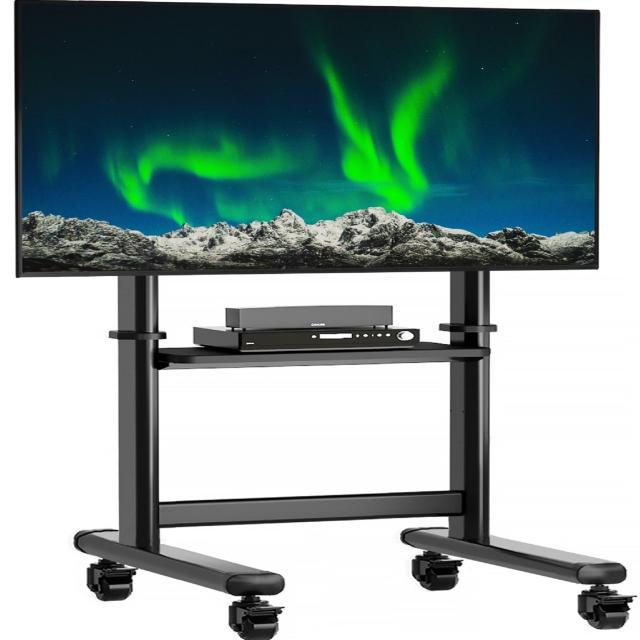electronics: (15, 0, 633, 638), (15, 0, 598, 276), (193, 305, 418, 351), (193, 326, 419, 351), (226, 305, 392, 329), (278, 281, 312, 288), (350, 281, 356, 287), (335, 280, 339, 287), (412, 620, 417, 625), (32, 375, 37, 379), (531, 358, 534, 364), (310, 566, 314, 570), (251, 285, 254, 287), (97, 621, 99, 622), (413, 616, 414, 617), (38, 354, 39, 355), (334, 580, 334, 581), (42, 537, 43, 537)
